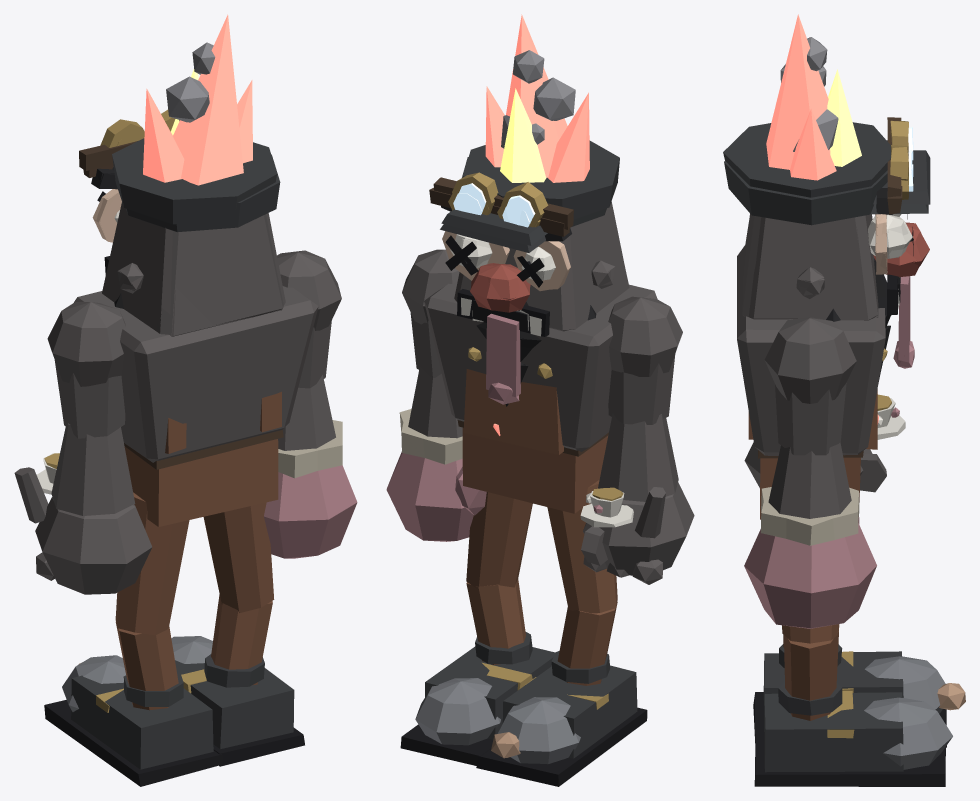
File: stoker.glb
The picture shows the model from 3 angles, left to right: view 1: azimuth 30°, elevation 25°; view 2: azimuth 150°, elevation 25°; view 3: azimuth 270°, elevation 25°; orthographic projection. The views are drawn at different scales.
Visible parts, largest first — view 1: head, chest, shin_l, forearm_l, head_ko, shin_r, forearm_r, pelvis, upper_arm_l, thigh_r, thigh_l, upper_arm_r; view 2: head, head_ko, chest, shin_l, forearm_l, shin_r, forearm_r, upper_arm_l, pelvis, thigh_r, thigh_l, upper_arm_r; view 3: head, shin_r, head_ko, forearm_r, chest, upper_arm_r, shin_l, forearm_l, pelvis, thigh_r.
Boxes of the visible parts, bbox=[...] form: head: bbox=[79, 14, 283, 336]; chest: bbox=[74, 286, 318, 462]; shin_l: bbox=[44, 622, 222, 786]; forearm_l: bbox=[14, 423, 152, 594]; head_ko: bbox=[83, 42, 285, 336]; shin_r: bbox=[171, 594, 304, 766]; forearm_r: bbox=[264, 375, 357, 558]; pelvis: bbox=[124, 430, 283, 526]; upper_arm_l: bbox=[47, 302, 125, 438]; thigh_r: bbox=[203, 502, 274, 613]; thigh_l: bbox=[115, 492, 189, 635]; upper_arm_r: bbox=[277, 250, 341, 388]; head: bbox=[433, 14, 629, 435]; head_ko: bbox=[429, 50, 628, 406]; chest: bbox=[424, 282, 657, 454]; shin_l: bbox=[476, 602, 647, 786]; forearm_l: bbox=[580, 413, 694, 584]; shin_r: bbox=[400, 579, 555, 765]; forearm_r: bbox=[386, 366, 486, 541]; upper_arm_l: bbox=[608, 296, 682, 424]; pelvis: bbox=[457, 420, 608, 513]; thigh_r: bbox=[466, 492, 532, 589]; thigh_l: bbox=[547, 480, 617, 613]; upper_arm_r: bbox=[402, 249, 459, 377]; head: bbox=[723, 14, 930, 424]; shin_r: bbox=[754, 631, 952, 786]; head_ko: bbox=[724, 37, 928, 383]; forearm_r: bbox=[744, 442, 876, 628]; chest: bbox=[737, 245, 887, 455]; upper_arm_r: bbox=[764, 317, 856, 455]; shin_l: bbox=[753, 634, 965, 747]; forearm_l: bbox=[744, 394, 905, 492]; pelvis: bbox=[758, 450, 863, 519]; thigh_r: bbox=[782, 624, 839, 643].
Size of the model in its own units: 1.1 by 2.51 by 0.7366.
